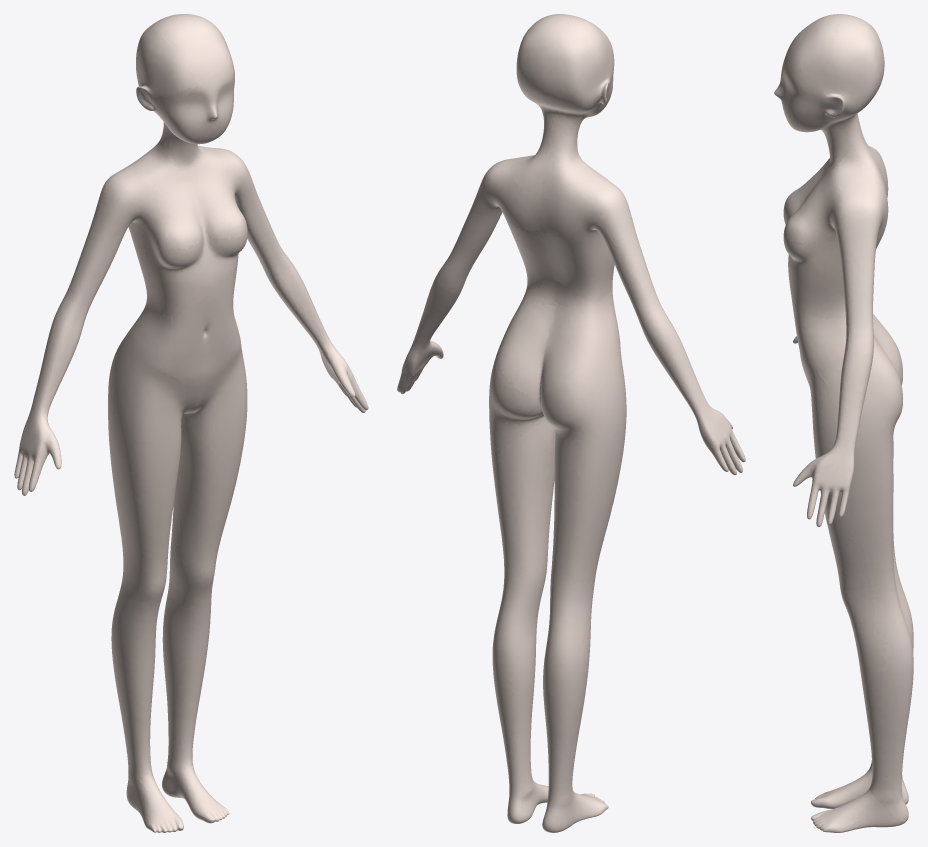
Rendered from char_yeoja_slim_v14.glb.
3 views of the same model, side by side, from view 1: azimuth 30°, elevation 25°; view 2: azimuth 150°, elevation 25°; view 3: azimuth 270°, elevation 25° (orthographic).
Size of the model in its own units: 0.8516 by 1.9 by 0.3013.
Materials: 1 (1 with a texture image).
